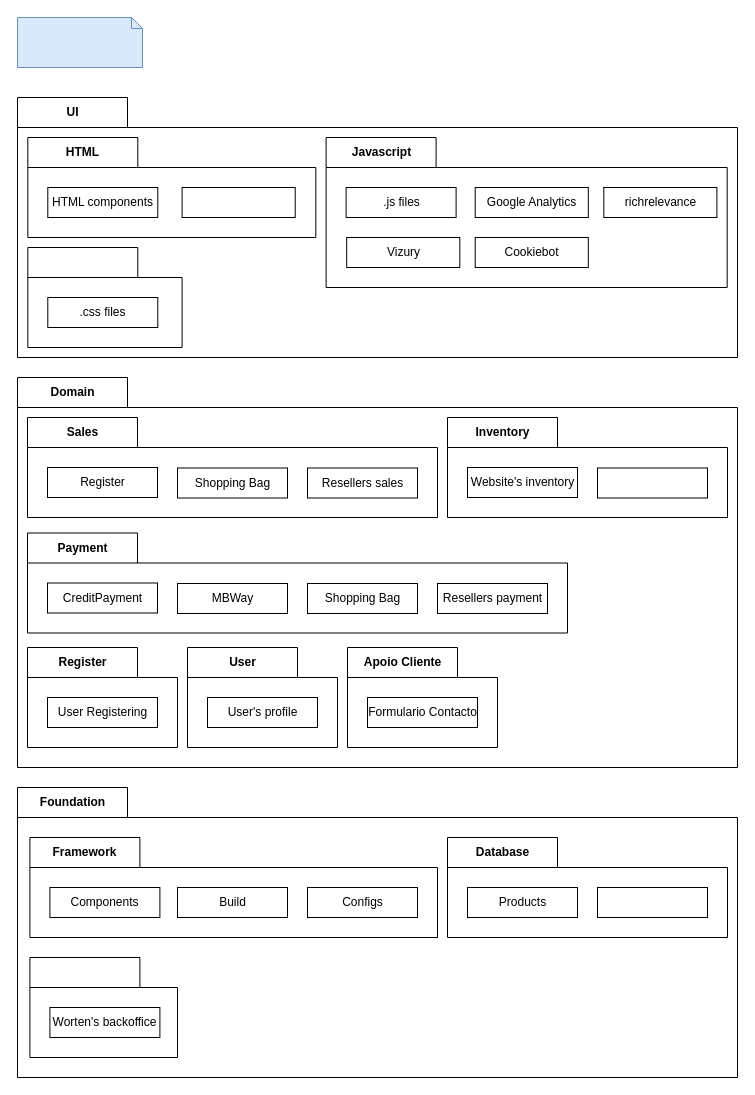
The diagram is 755 pixels wide and 1095 high, and some of its shapes have lost their labels. The shapes that lost their labels are listed below. From the top down, each one's centre as x and y in pixels, then its label:
the point at 79,42: AS-EX 5.2 Grupo 601 (DF, DC, ST, FC) v2022/04/06
the point at 238,202: .html files
the point at 104,297: CSS
the point at 652,482: Resellers inventory
the point at 652,902: User's
the point at 103,1007: APIs
